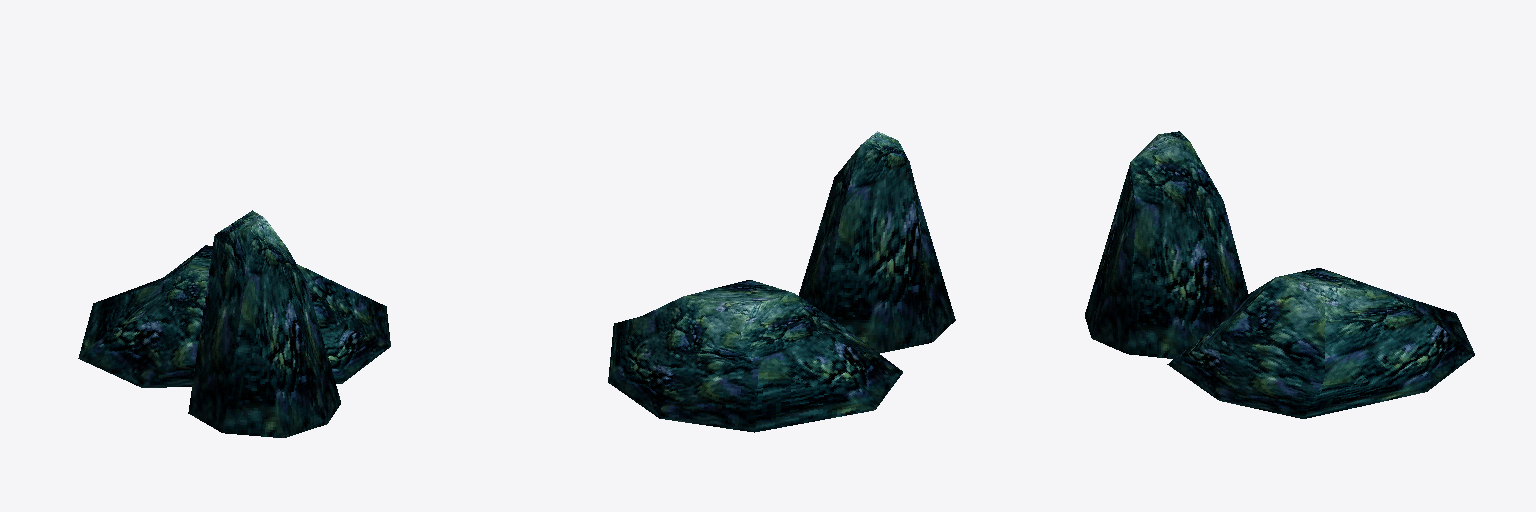
The picture shows the model from 3 angles: view 1: azimuth 30°, elevation 25°; view 2: azimuth 150°, elevation 25°; view 3: azimuth 270°, elevation 25°; orthographic projection.
Visible parts, largest first — view 1: North_Rocks5; view 2: North_Rocks5; view 3: North_Rocks5.
Boxes of the visible parts, x1,y1,x2,y2 form: North_Rocks5: [78, 210, 390, 437]; North_Rocks5: [608, 131, 955, 432]; North_Rocks5: [1085, 131, 1474, 418].
Bounding box in the file's own units: 4.26 × 2.68 × 5.06.
Materials: 1 (1 with a texture image).